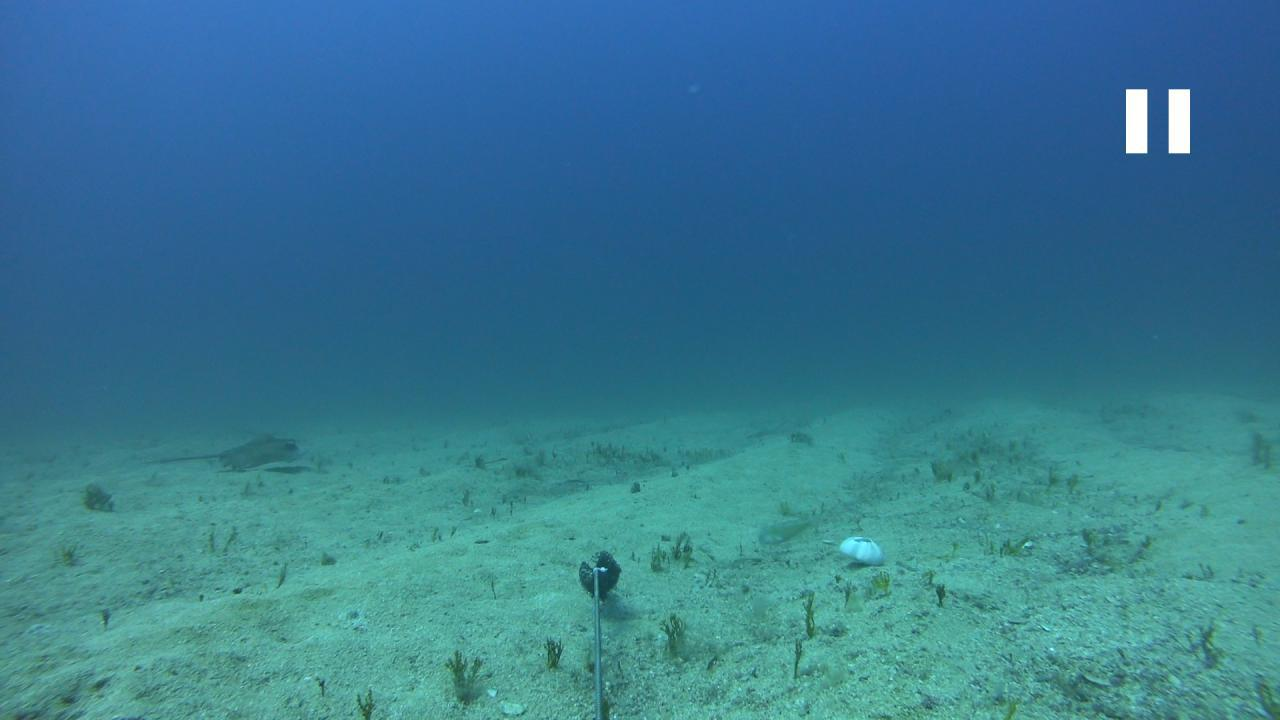dasyatis: (146, 434, 306, 472)
